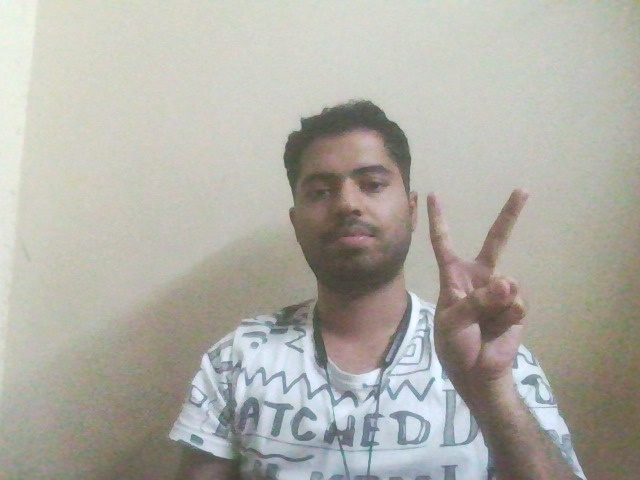Hello: (418, 169, 547, 394)
